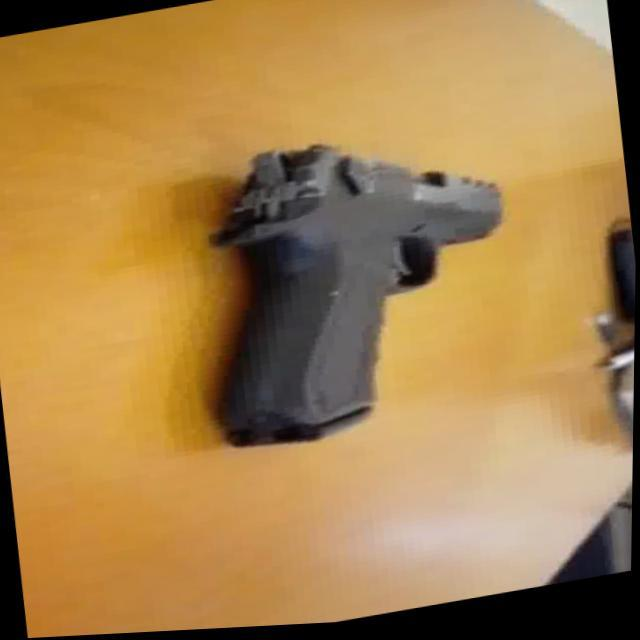weapon: (185, 113, 530, 461)
